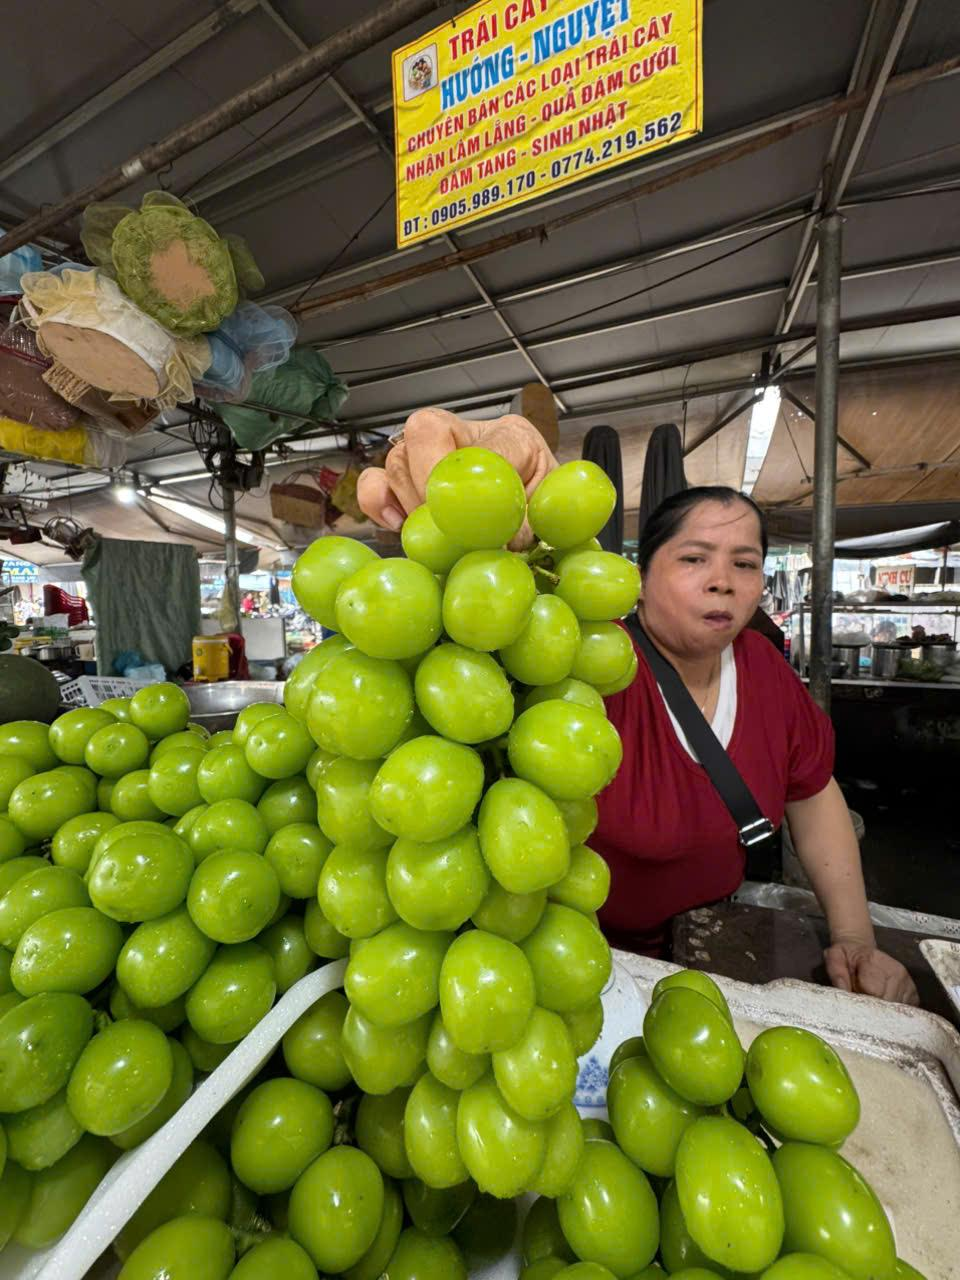grape: (262, 446, 648, 1200)
